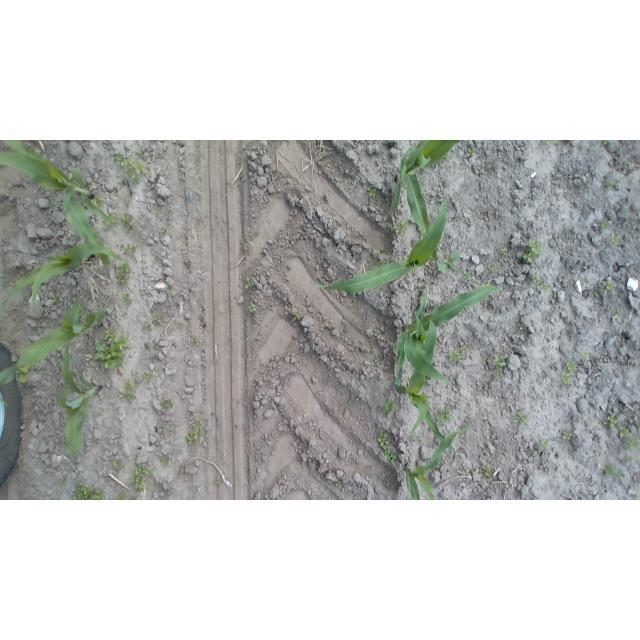Maize: (1, 141, 114, 268), (308, 197, 448, 294), (1, 297, 108, 407), (393, 283, 502, 388), (1, 241, 126, 313), (392, 141, 461, 268), (395, 318, 456, 452), (57, 342, 105, 463), (403, 428, 463, 500)
Weeds: (93, 326, 127, 370), (113, 152, 149, 182), (377, 429, 400, 466), (521, 237, 545, 264), (71, 482, 105, 500), (185, 418, 206, 447), (436, 252, 460, 275), (559, 360, 578, 387), (132, 461, 149, 491), (602, 460, 626, 480), (120, 212, 138, 233), (435, 408, 453, 427), (394, 218, 411, 235), (381, 397, 397, 415), (602, 411, 618, 427), (492, 353, 509, 368), (117, 390, 136, 403), (119, 242, 137, 255), (511, 411, 527, 425), (115, 275, 130, 289), (114, 260, 130, 273), (18, 366, 31, 382), (609, 232, 623, 246), (481, 464, 495, 478), (537, 278, 552, 291), (246, 301, 259, 316), (611, 306, 622, 323), (142, 371, 155, 385), (124, 380, 143, 389), (140, 320, 153, 333), (120, 294, 133, 307), (603, 278, 617, 290), (366, 184, 378, 198), (618, 425, 630, 439), (538, 438, 551, 450), (449, 348, 460, 362), (618, 456, 635, 465), (91, 196, 106, 206), (463, 270, 474, 283), (158, 399, 172, 409), (629, 436, 640, 448), (621, 156, 630, 170), (245, 277, 256, 288), (580, 348, 592, 358), (110, 212, 119, 225), (250, 230, 260, 241), (193, 336, 204, 346), (159, 455, 169, 466), (492, 371, 502, 382), (488, 264, 500, 273), (467, 145, 476, 157), (594, 286, 602, 299), (562, 430, 572, 440), (477, 378, 486, 389), (601, 220, 610, 230), (153, 315, 163, 324), (412, 433, 420, 444), (544, 140, 561, 145), (517, 323, 529, 330), (531, 275, 540, 284), (500, 247, 509, 256), (136, 149, 145, 158), (371, 261, 381, 269), (364, 465, 372, 475), (216, 476, 224, 486), (347, 398, 357, 406), (167, 281, 173, 294), (606, 180, 615, 188), (101, 222, 109, 231), (125, 192, 131, 204), (58, 478, 66, 487), (462, 422, 470, 431), (620, 442, 629, 450), (153, 208, 161, 217), (377, 353, 384, 363), (53, 295, 60, 304), (114, 460, 121, 469), (116, 493, 125, 500), (630, 176, 637, 183), (579, 413, 586, 420), (527, 449, 535, 455), (462, 347, 471, 352), (161, 227, 167, 234), (178, 321, 183, 329), (582, 280, 590, 285), (603, 140, 612, 144), (527, 182, 533, 188), (369, 350, 376, 355), (336, 481, 343, 486), (381, 247, 386, 254), (292, 316, 297, 322), (63, 439, 68, 445), (97, 400, 103, 405), (121, 311, 128, 315), (154, 256, 159, 261), (622, 319, 626, 325), (464, 470, 469, 474), (64, 417, 67, 423)
